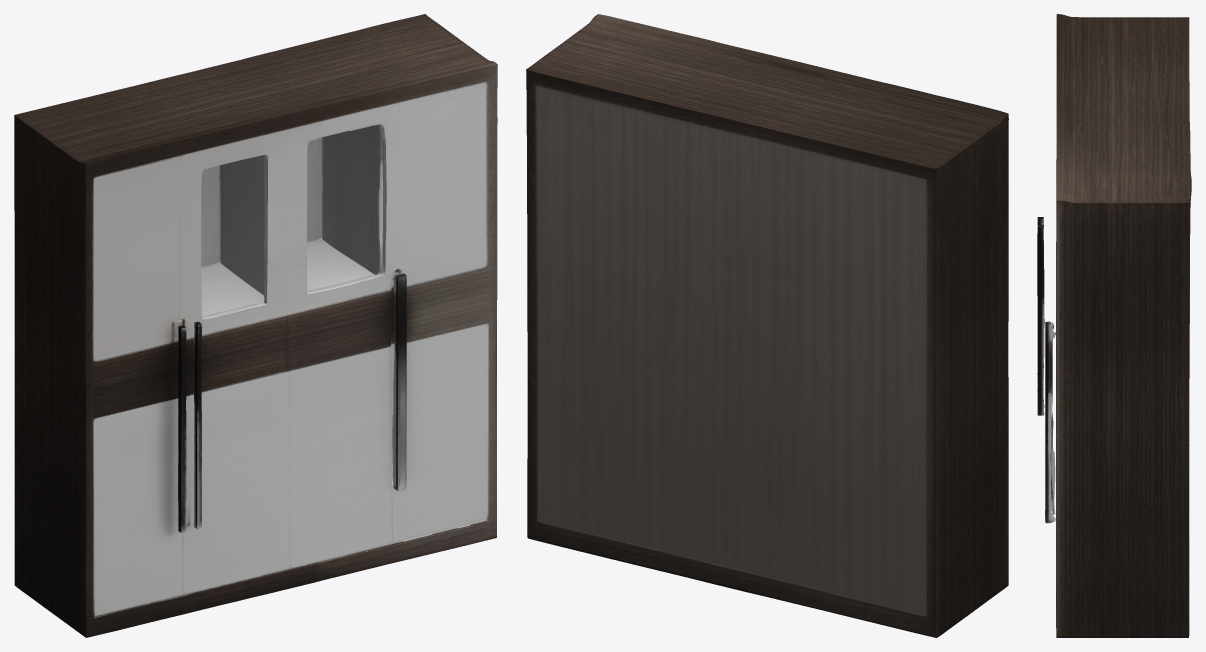
File: wardrobe_4_door_white_dark_g.glb
3 renders of one model, left to right at view 1: azimuth 30°, elevation 25°; view 2: azimuth 150°, elevation 25°; view 3: azimuth 270°, elevation 25°, orthographic. The views are drawn at different scales.
Visible parts, largest first — view 1: world; view 2: world; view 3: world.
Part boxes in pixels (x1=…): world: x1=14, y1=14, x2=497, y2=637; world: x1=526, y1=14, x2=1008, y2=637; world: x1=1037, y1=14, x2=1191, y2=637.
Size of the model in its own units: 0.8995 by 0.9917 by 0.3148.
1 material, 1 textured.
